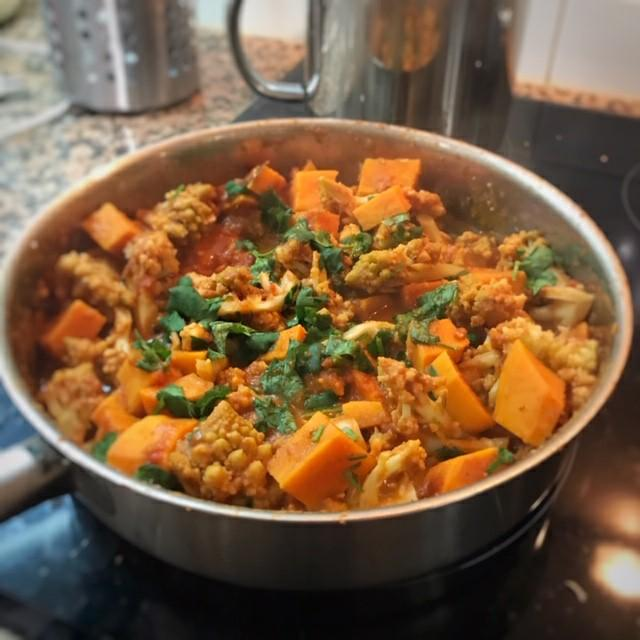AlooGobi: (43, 156, 601, 512)
